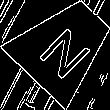N_NE: (32, 14, 96, 78)
